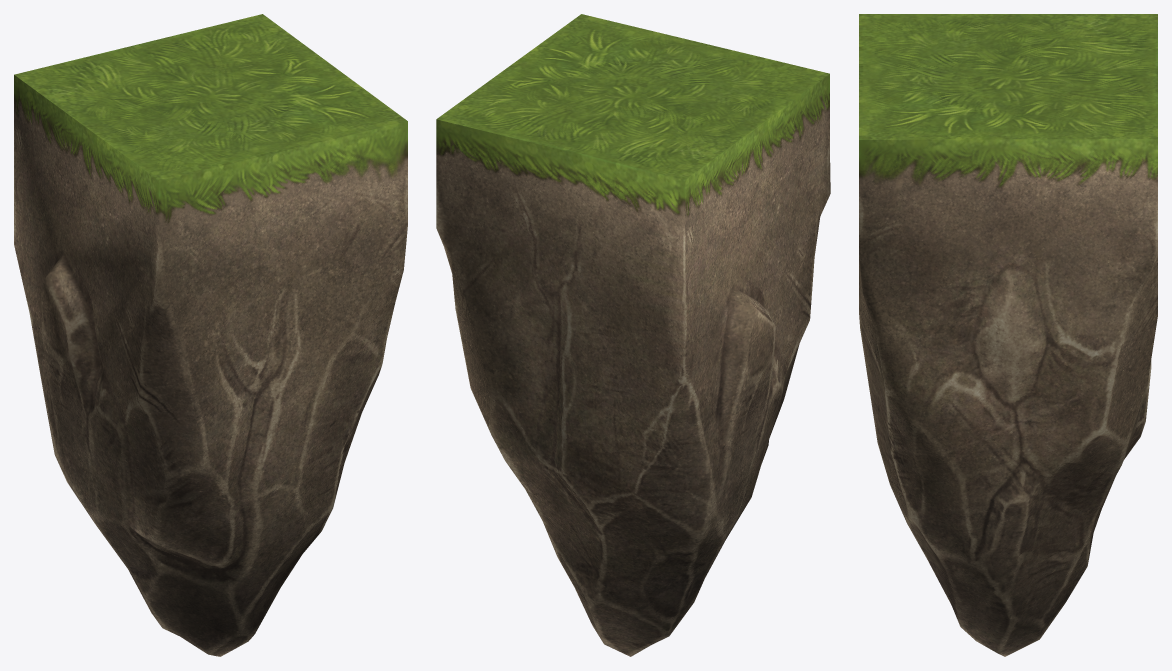
Rendered from grassrockblock.fbx.
3 renders of one model, left to right at view 1: azimuth 30°, elevation 25°; view 2: azimuth 150°, elevation 25°; view 3: azimuth 270°, elevation 25°, orthographic. The views are drawn at different scales.
Parts seen in each view (by area): view 1: Group2477; view 2: Group2477; view 3: Group2477.
Part boxes in pixels (x1=…): Group2477: x1=14, y1=14, x2=407, y2=656; Group2477: x1=436, y1=14, x2=830, y2=656; Group2477: x1=859, y1=14, x2=1157, y2=656.
Bounding box in the file's own units: 4.37 × 8.43 × 3.96.
